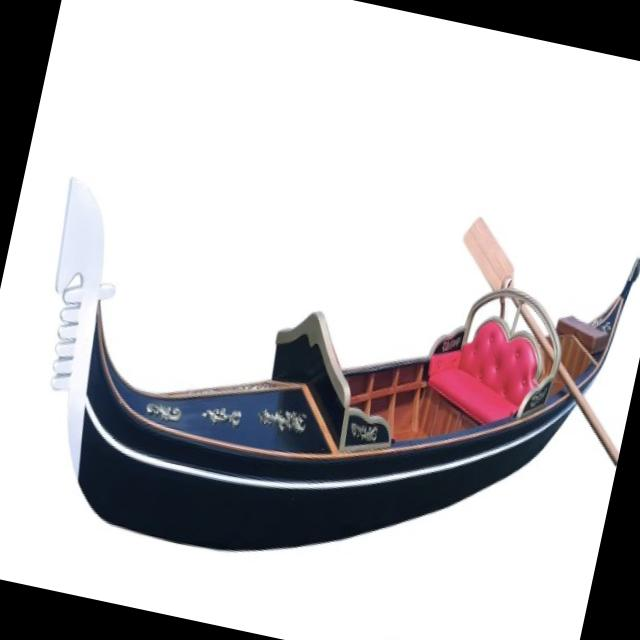boat: (0, 63, 640, 638)
